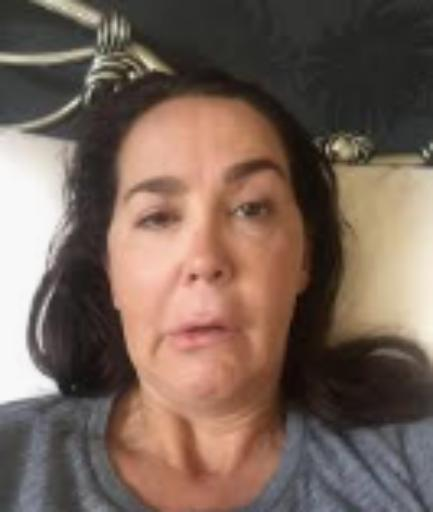left_eye: (228, 201, 276, 223)
left_lip_corner: (218, 317, 245, 341)
right_eye: (136, 207, 181, 232)
right_lip_corner: (155, 324, 183, 346)
